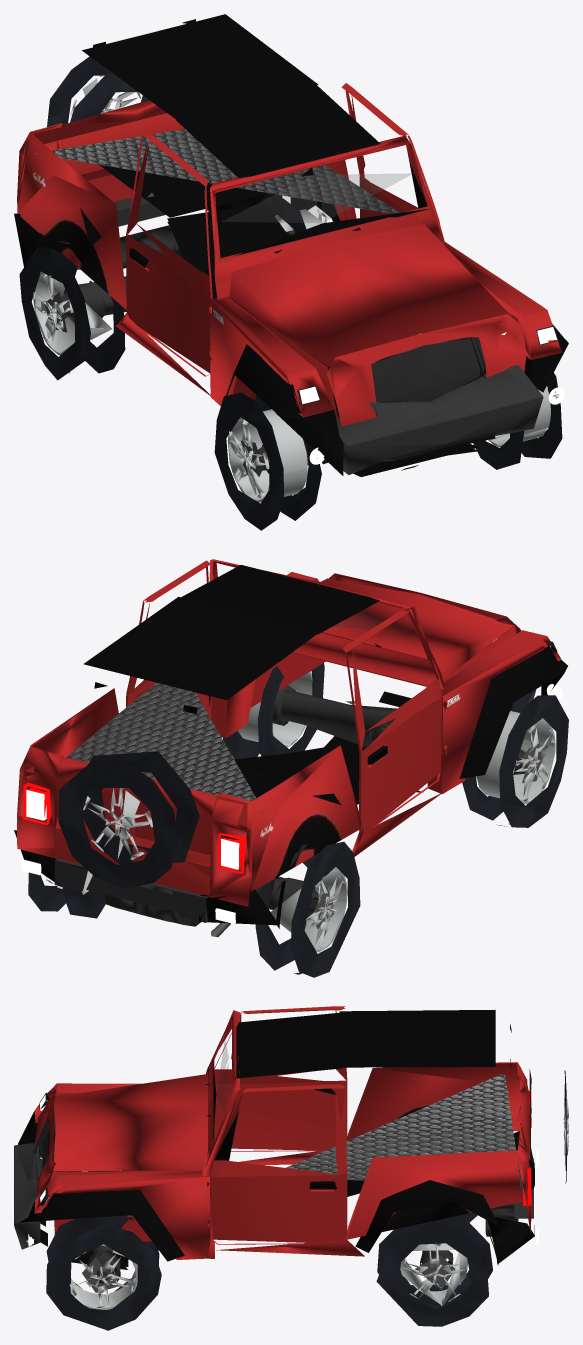
The model's file is thar_lod.glb.
3 views of the same model, one above another, from view 1: azimuth 30°, elevation 25°; view 2: azimuth 150°, elevation 25°; view 3: azimuth 270°, elevation 25° (orthographic). The views are drawn at different scales.
Parts seen in each view (by area): view 1: Object_20, Object_16, Object_41, Object_31, Object_18, Object_45, Object_25, Object_34, Object_42, Object_44, Object_4, Object_14 (+9 smaller); view 2: Object_31, Object_41, Object_20, Object_18, Object_42, Object_34, Object_16, Object_4, Object_27, Object_23, Object_47, Object_25 (+9 smaller); view 3: Object_41, Object_18, Object_20, Object_31, Object_16, Object_42, Object_47, Object_5, Object_34, Object_45, Object_44, Object_38 (+7 smaller).
Boxes of the visible parts, x1,y1,x2,y2 form: Object_20: (14, 14, 568, 475); Object_16: (229, 224, 514, 366); Object_41: (17, 123, 445, 395); Object_31: (19, 56, 562, 530); Object_18: (126, 83, 439, 376); Object_45: (336, 365, 543, 474); Object_25: (99, 165, 478, 476); Object_34: (33, 75, 550, 502); Object_42: (34, 129, 399, 213); Object_44: (327, 314, 526, 426); Object_4: (210, 298, 333, 417); Object_14: (371, 337, 485, 401); Object_31: (28, 653, 568, 977); Object_41: (17, 559, 444, 906); Object_20: (14, 565, 567, 928); Object_18: (126, 560, 447, 831); Object_42: (66, 682, 263, 811); Object_34: (46, 671, 555, 952); Object_16: (319, 578, 513, 683); Object_4: (427, 630, 561, 794); Object_27: (54, 757, 217, 896); Object_23: (251, 685, 527, 917); Object_47: (313, 644, 564, 804); Object_25: (234, 736, 423, 804); Object_41: (202, 1010, 531, 1258); Object_18: (207, 1006, 347, 1244); Object_20: (18, 1009, 534, 1265); Object_31: (46, 1069, 566, 1330); Object_16: (53, 1074, 207, 1171); Object_42: (286, 1074, 521, 1187); Object_47: (41, 1180, 499, 1261); Object_5: (34, 1170, 210, 1259); Object_34: (66, 1094, 568, 1309); Object_45: (14, 1143, 40, 1249); Object_44: (35, 1094, 56, 1197); Object_38: (47, 1111, 200, 1241).
Bounding box in the file's own units: 14.5 × 13.65 × 28.9.
Materials: 36 (15 with a texture image).
